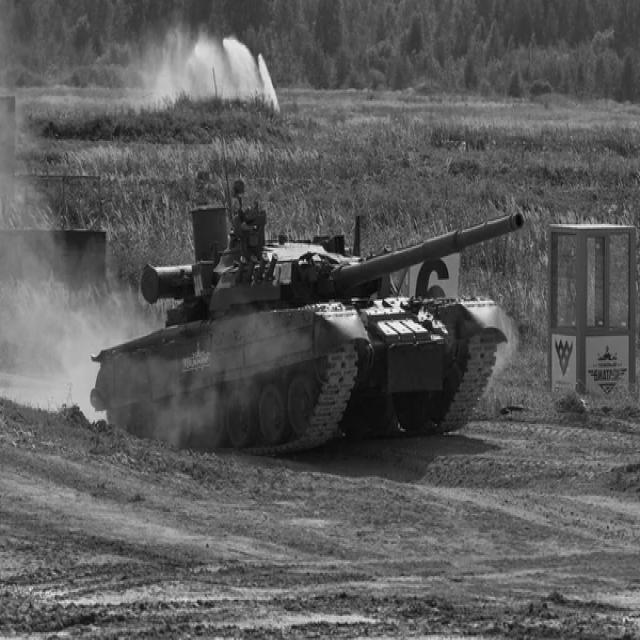Tank: (85, 178, 529, 462)
